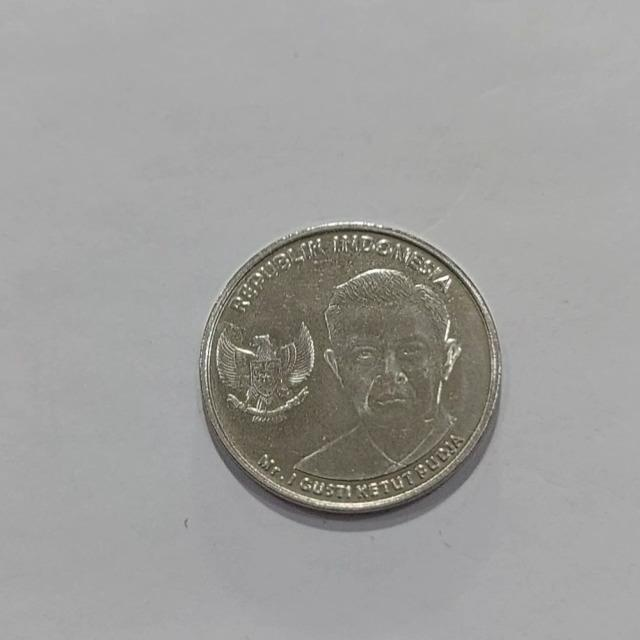Rp100: (198, 220, 503, 515), (287, 265, 465, 483)
